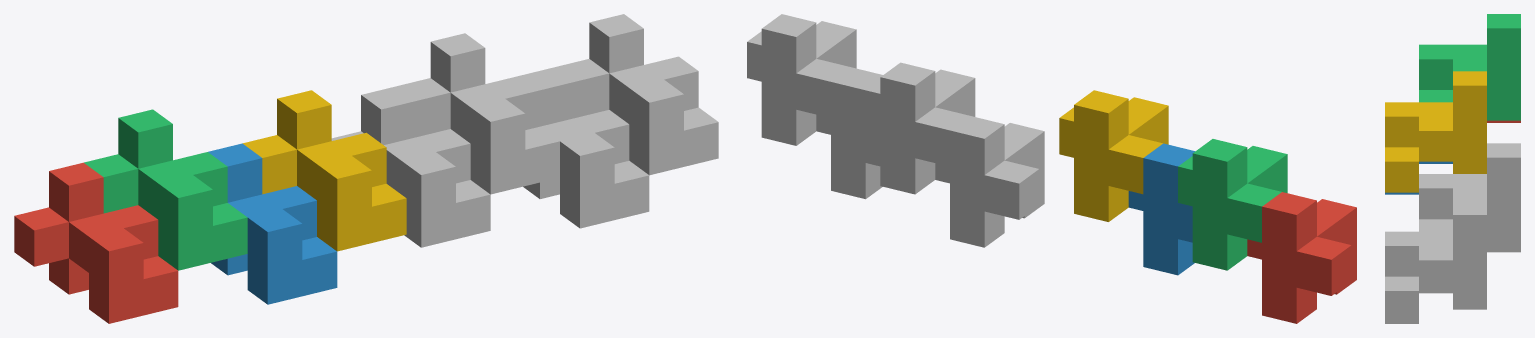
The model's file is tiling.obj.
The picture shows the model from 3 angles, left to right: view 1: azimuth 30°, elevation 25°; view 2: azimuth 150°, elevation 25°; view 3: azimuth 270°, elevation 25°; orthographic projection. The views are drawn at different scales.
Parts seen in each view (by area): view 1: copy_1_domain_1, copy_1_domain_3, copy_1_domain_4, copy_1_domain_8, copy_1_domain_7, copy_1_domain_5, copy_1_domain_2, copy_1_domain_6; view 2: copy_1_domain_1, copy_1_domain_5, copy_1_domain_7, copy_1_domain_8, copy_1_domain_3, copy_1_domain_4, copy_1_domain_2, copy_1_domain_6; view 3: copy_1_domain_8, copy_1_domain_4, copy_1_domain_3, copy_1_domain_7, copy_1_domain_6, copy_1_domain_2.
Boxes of the visible parts, x1,y1,x2,y2 form: copy_1_domain_1: (14, 162, 178, 323); copy_1_domain_3: (84, 109, 247, 270); copy_1_domain_4: (242, 90, 406, 251); copy_1_domain_8: (555, 14, 718, 175); copy_1_domain_7: (396, 33, 559, 194); copy_1_domain_5: (331, 86, 490, 247); copy_1_domain_2: (208, 143, 337, 304); copy_1_domain_6: (520, 67, 649, 228); copy_1_domain_1: (1247, 192, 1356, 323); copy_1_domain_5: (935, 116, 1044, 247); copy_1_domain_7: (865, 62, 975, 194); copy_1_domain_8: (747, 14, 856, 145); copy_1_domain_3: (1178, 139, 1287, 270); copy_1_domain_4: (1059, 90, 1168, 221); copy_1_domain_2: (1128, 143, 1194, 275); copy_1_domain_6: (816, 67, 882, 199); copy_1_domain_8: (1385, 200, 1486, 321); copy_1_domain_4: (1385, 71, 1486, 192); copy_1_domain_3: (1419, 14, 1520, 120); copy_1_domain_7: (1419, 143, 1520, 249); copy_1_domain_6: (1385, 291, 1486, 323); copy_1_domain_2: (1385, 161, 1452, 194).
Size of the model in its own units: 18 by 4 by 4.
